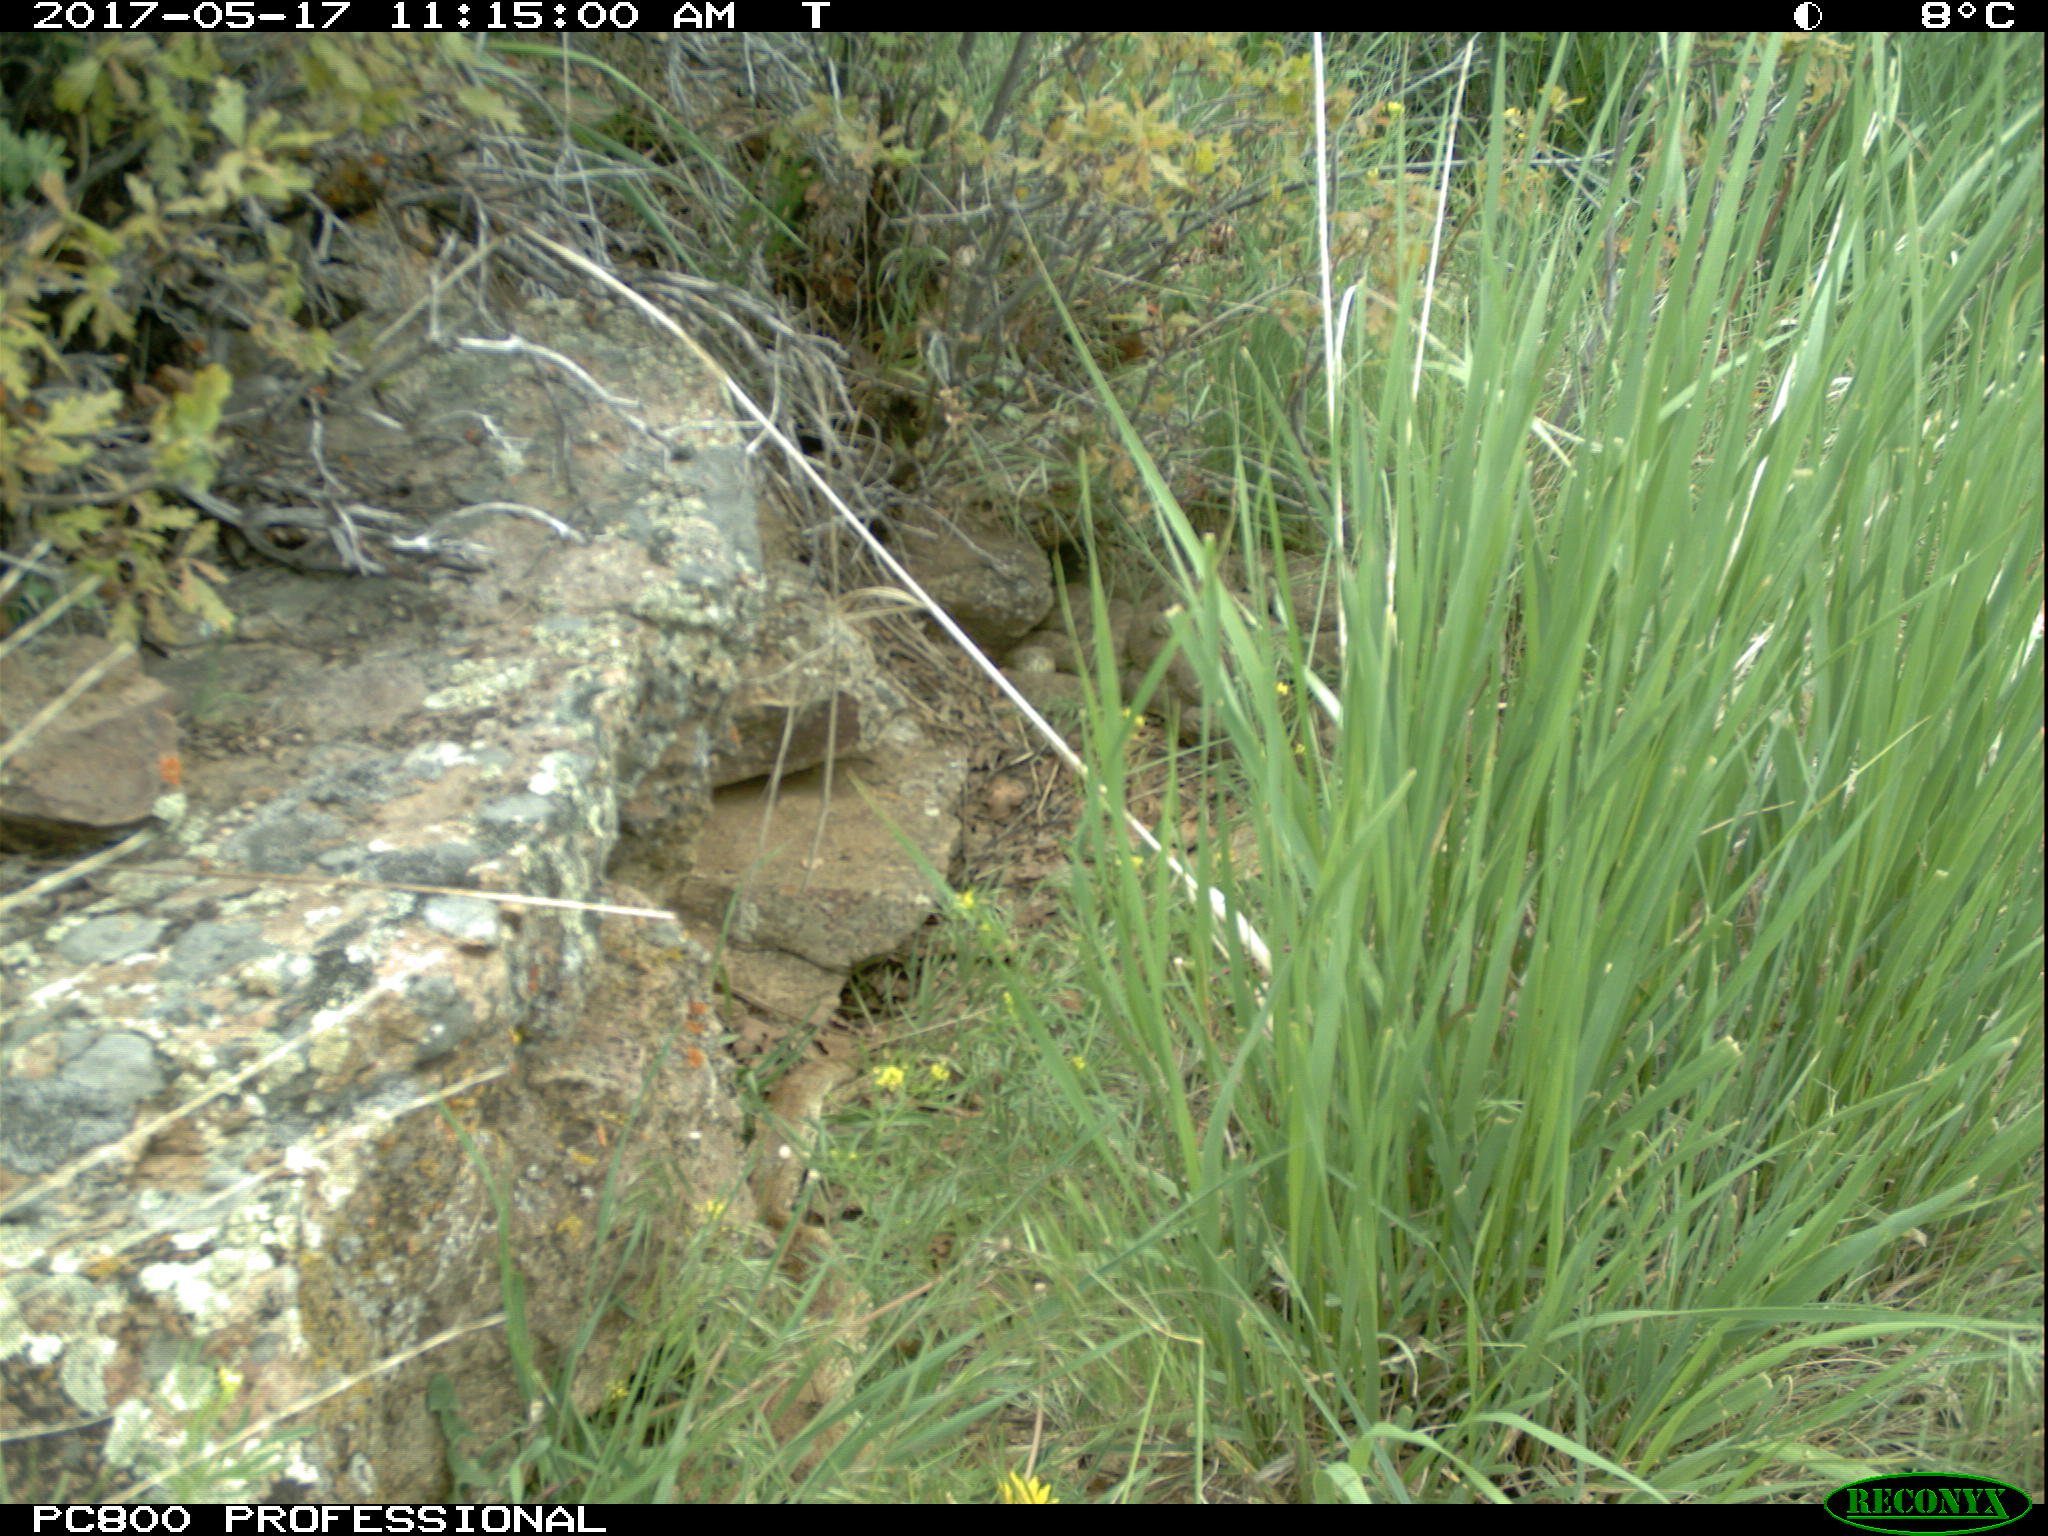snake: (748, 1054, 872, 1434), (1006, 578, 1127, 674)
